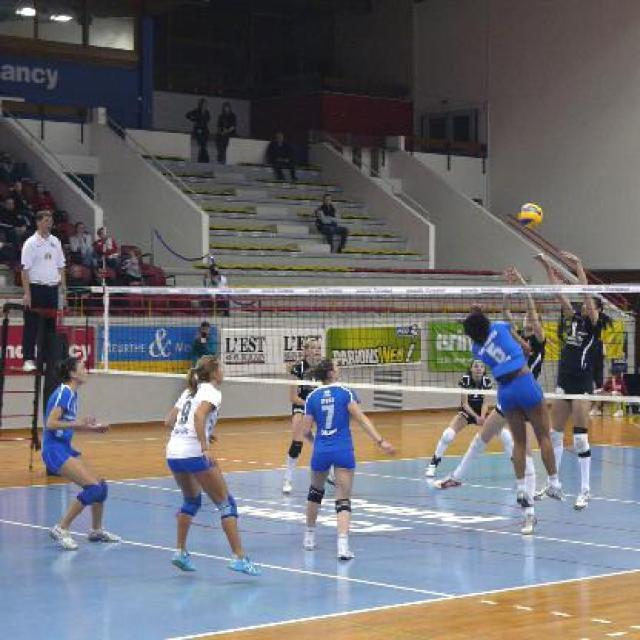volleyball: (518, 202, 543, 228)
